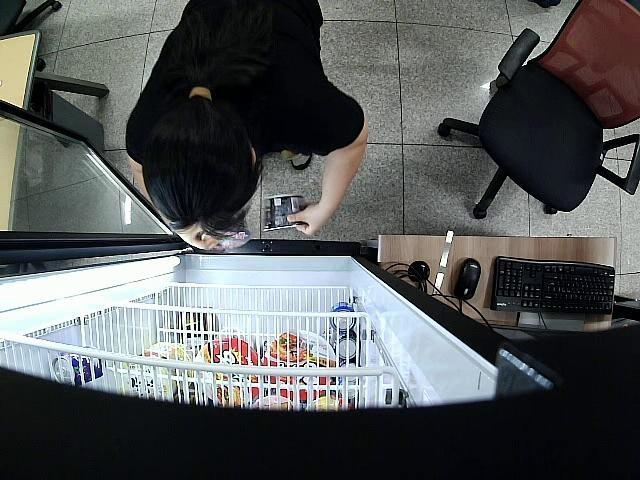07_buldak_L: (260, 193, 310, 230), (202, 216, 250, 253)
